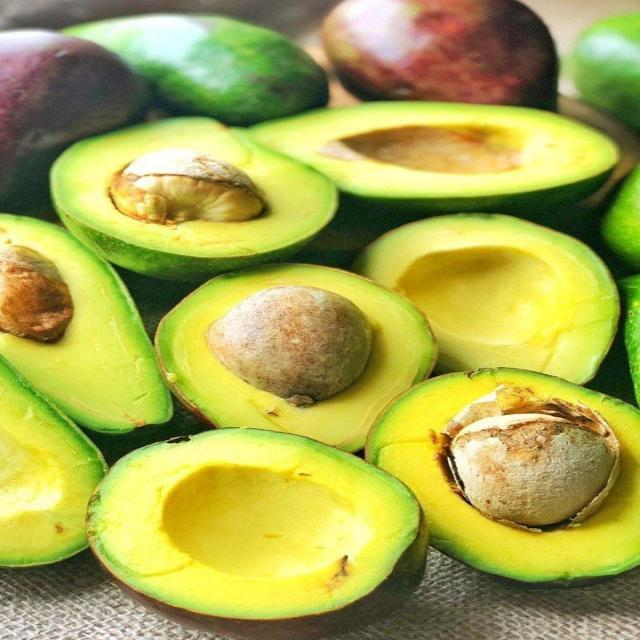avocado: (88, 429, 426, 639), (368, 369, 639, 583), (156, 264, 436, 450), (52, 117, 336, 280), (356, 214, 618, 383), (251, 102, 617, 218), (0, 214, 172, 433), (65, 14, 327, 125), (0, 29, 148, 207), (322, 0, 558, 109), (0, 357, 105, 566), (568, 13, 639, 129), (602, 168, 639, 268), (618, 275, 639, 403)
